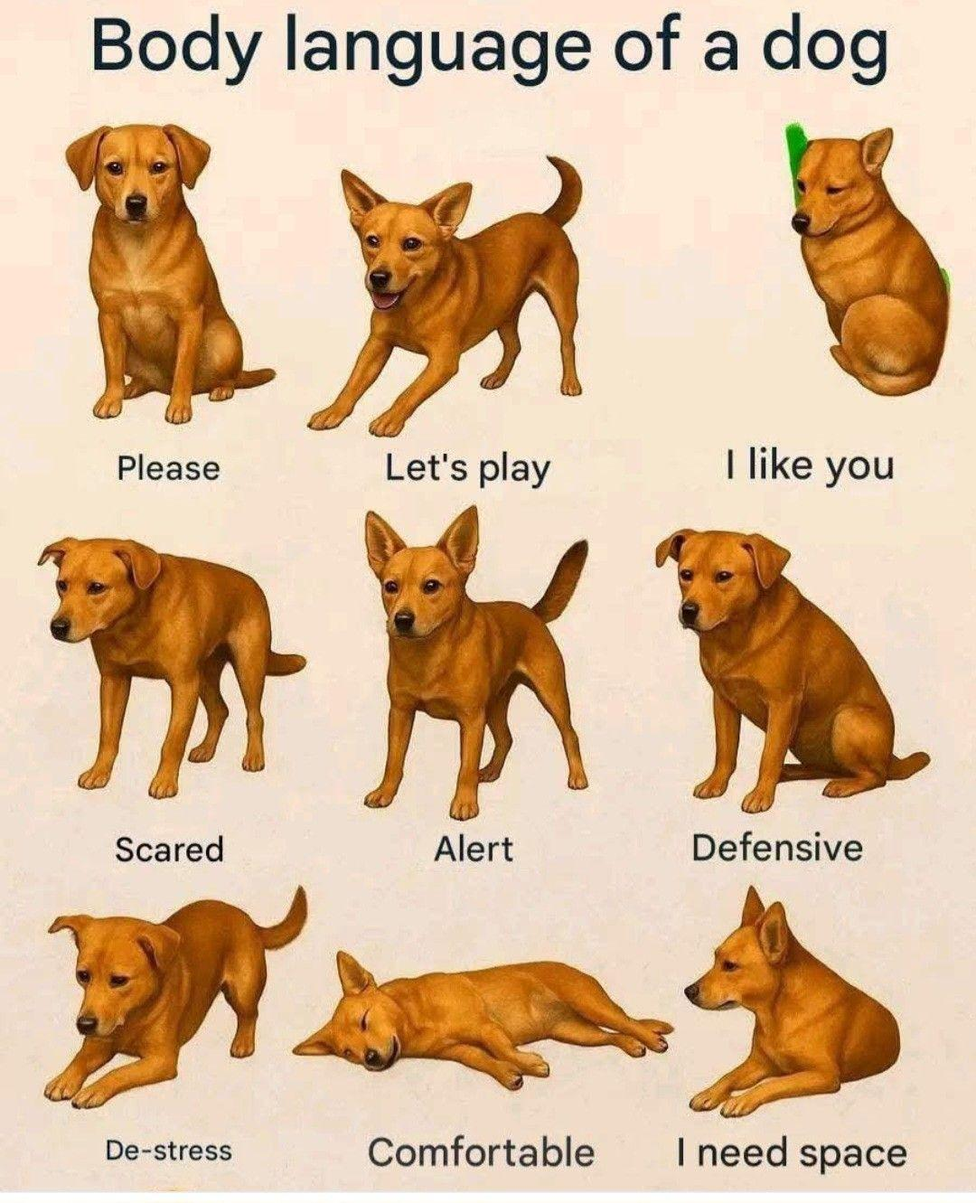adult_dog: (652, 526, 933, 816), (306, 154, 584, 439), (361, 503, 591, 822), (33, 534, 307, 801), (65, 121, 277, 427), (43, 883, 310, 1111), (292, 949, 677, 1092), (683, 882, 904, 1119), (782, 124, 951, 399)
